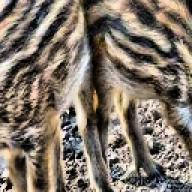boar: (75, 0, 192, 192), (0, 0, 94, 192)
